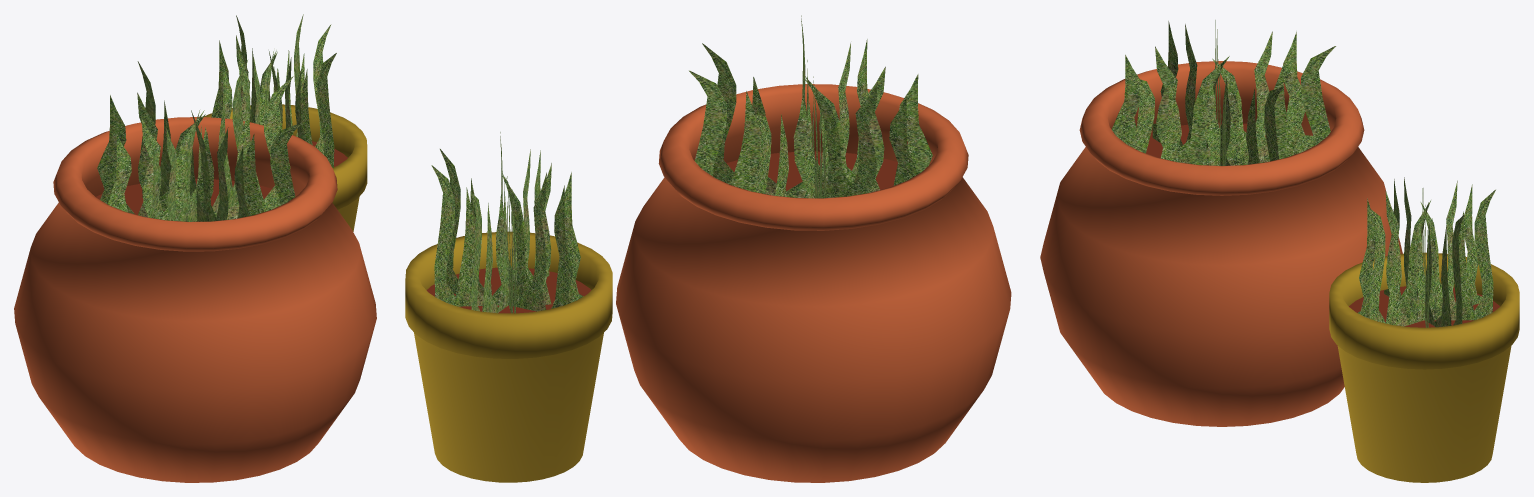
The model's file is plantitas salon.fbx.
3 renders of one model, left to right at view 1: azimuth 30°, elevation 25°; view 2: azimuth 150°, elevation 25°; view 3: azimuth 270°, elevation 25°, orthographic. The views are drawn at different scales.
Visible parts, largest first — view 1: Plane.011; view 2: Plane.011; view 3: Plane.011.
Part boxes in pixels (x1=…): Plane.011: x1=14, y1=14, x2=376, y2=482; Plane.011: x1=405, y1=15, x2=1011, y2=482; Plane.011: x1=1040, y1=20, x2=1519, y2=482.
Bounding box in the file's own units: 408 × 305 × 405.
